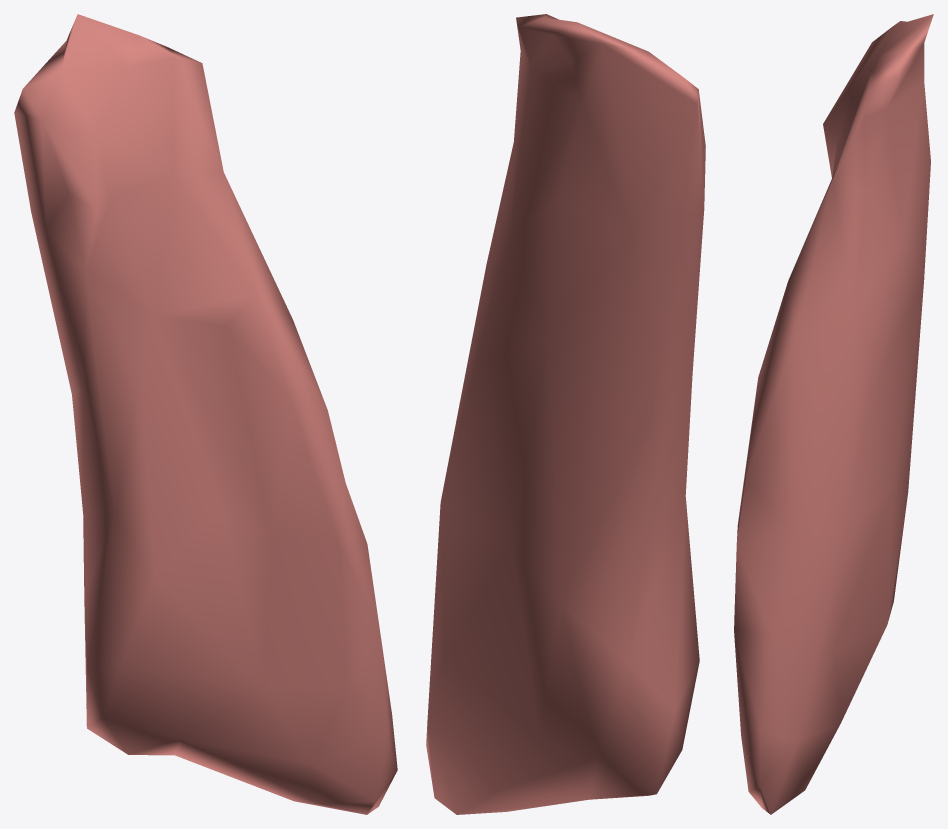
File: fma81556_mm1327.glb
The picture shows the model from 3 angles, left to right: view 1: azimuth 30°, elevation 25°; view 2: azimuth 150°, elevation 25°; view 3: azimuth 270°, elevation 25°; orthographic projection. The views are drawn at different scales.
Visible parts, largest first — view 1: FMA81556_MM1327; view 2: FMA81556_MM1327; view 3: FMA81556_MM1327.
Boxes of the visible parts, left/top/right/bottom form: FMA81556_MM1327: left=14, top=14, right=397, bottom=814; FMA81556_MM1327: left=426, top=14, right=705, bottom=814; FMA81556_MM1327: left=734, top=14, right=933, bottom=814.
Size of the model in its own units: 0.00624 by 0.0151 by 0.00387.
